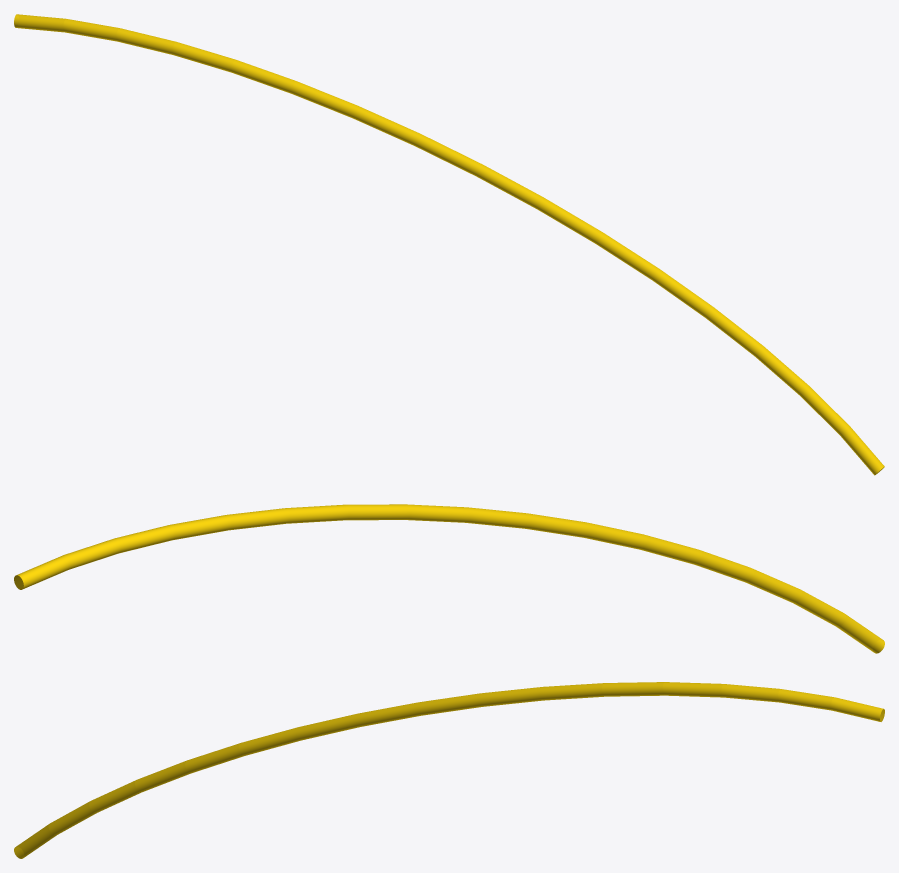
Rendered from Event_421127236_track_18.fbx.
3 renders of one model, top to bottom at view 1: azimuth 90°, elevation 25°; view 2: azimuth 150°, elevation 25°; view 3: azimuth 270°, elevation 25°, orthographic. The views are drawn at different scales.
Parts seen in each view (by area): view 1: Model; view 2: Model; view 3: Model.
Boxes of the visible parts, left/top/right/bottom form: Model: left=14, top=14, right=884, bottom=475; Model: left=14, top=504, right=884, bottom=653; Model: left=14, top=682, right=884, bottom=858.
Bounding box in the file's own units: 1.11 × 0.9894 × 2.53.
